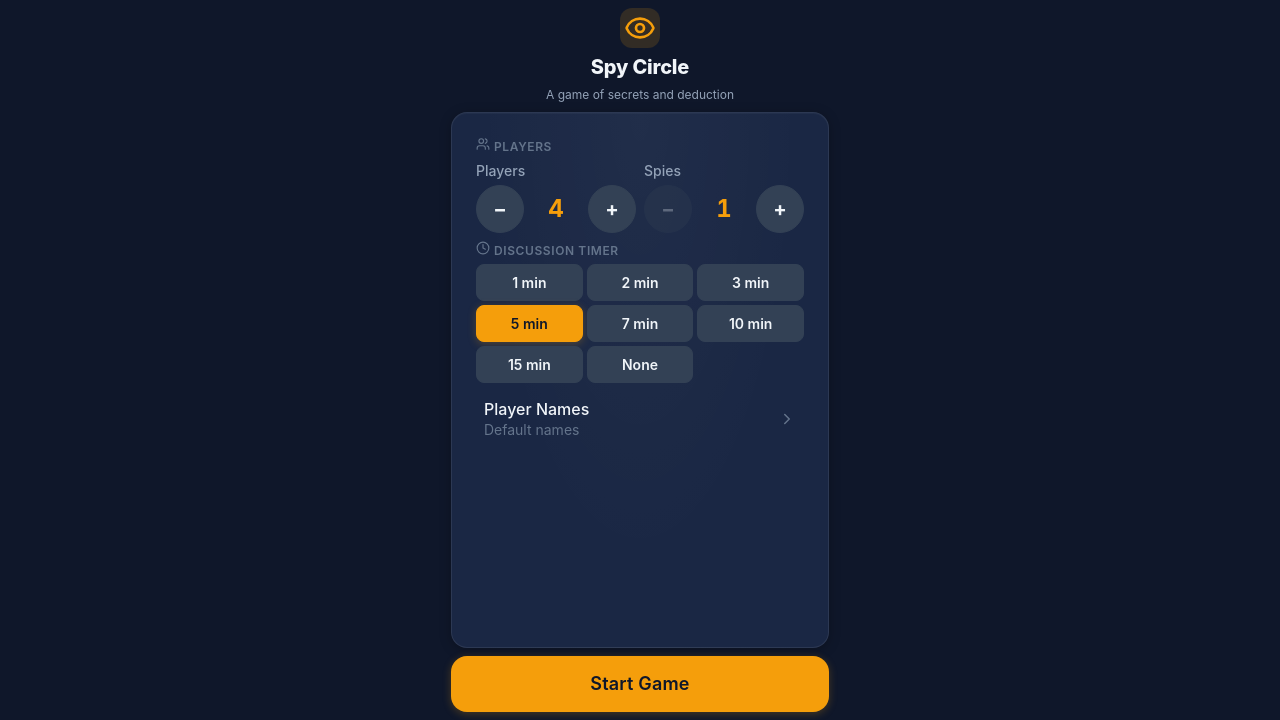
Test: PlayScreen › opens the player names modal from the row
The image size is (1280, 720).
Step 1. Click the button "Player Names Default names" → (537, 409), box x1=476 y1=391 x2=804 y2=446
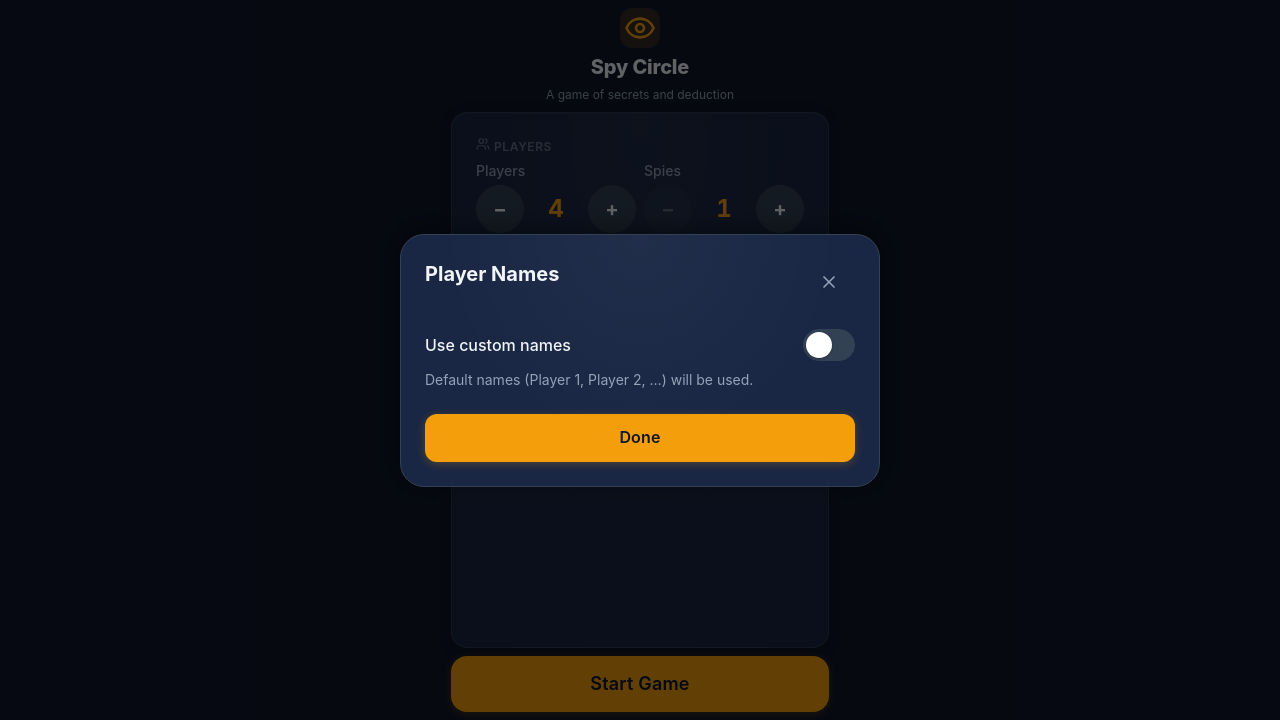
Result: the text "Default names (Player 1, Player 2, …) will be used." is shown at x1=425 y1=370 x2=753 y2=388
